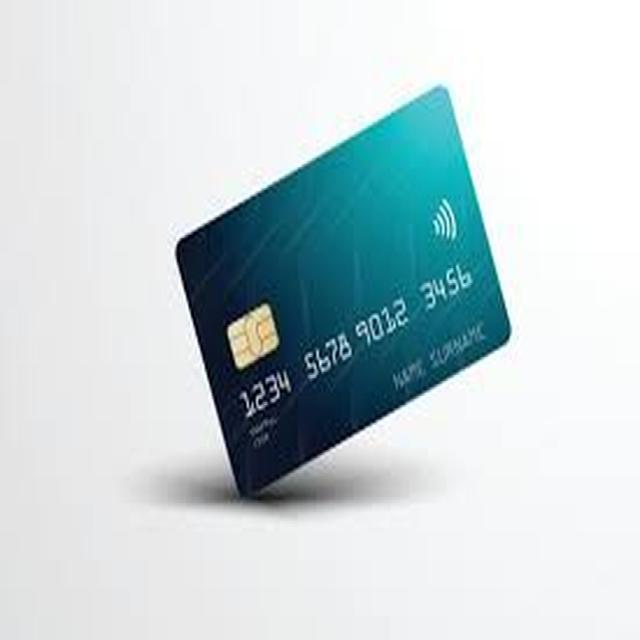card: (154, 72, 543, 514)
